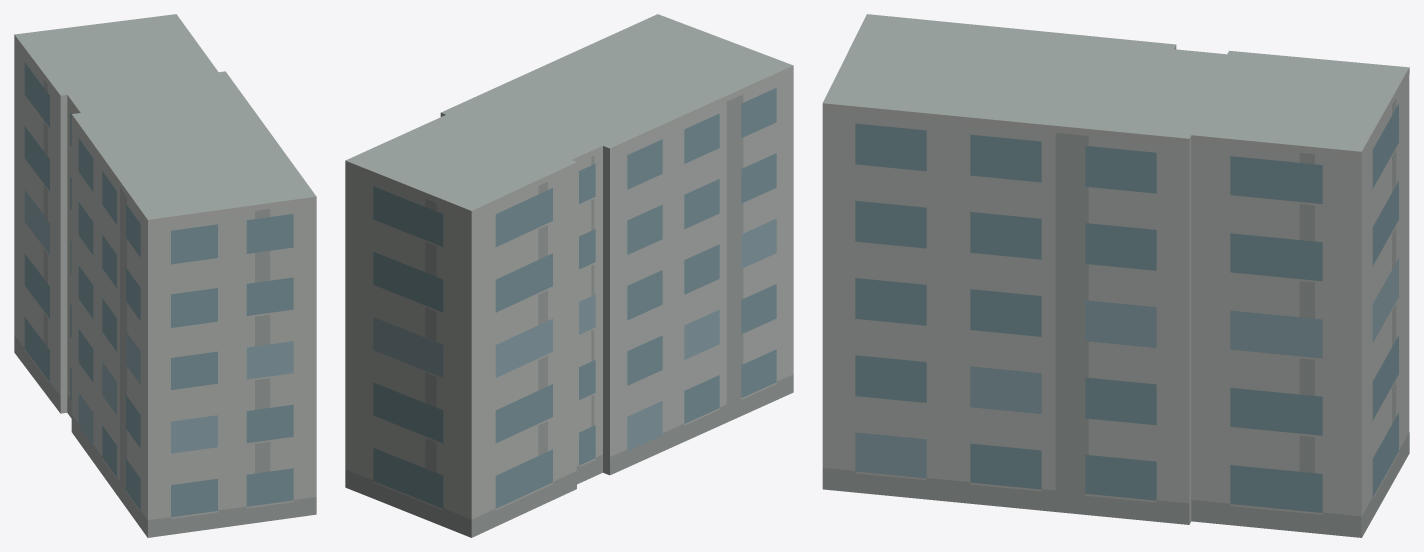
The model's file is survey-upis-32772062.glb.
The picture shows the model from 3 angles, left to right: view 1: azimuth 30°, elevation 25°; view 2: azimuth 150°, elevation 25°; view 3: azimuth 270°, elevation 25°; orthographic projection. The views are drawn at different scales.
Visible parts, largest first — view 1: survey-upis-32772062.tmp; view 2: survey-upis-32772062.tmp; view 3: survey-upis-32772062.tmp.
Part boxes in pixels (<box>): survey-upis-32772062.tmp: <box>14,14,316,537</box>; survey-upis-32772062.tmp: <box>345,14,793,537</box>; survey-upis-32772062.tmp: <box>822,14,1409,537</box>.
Size of the model in its own units: 10.3 by 13.45 by 18.54.
